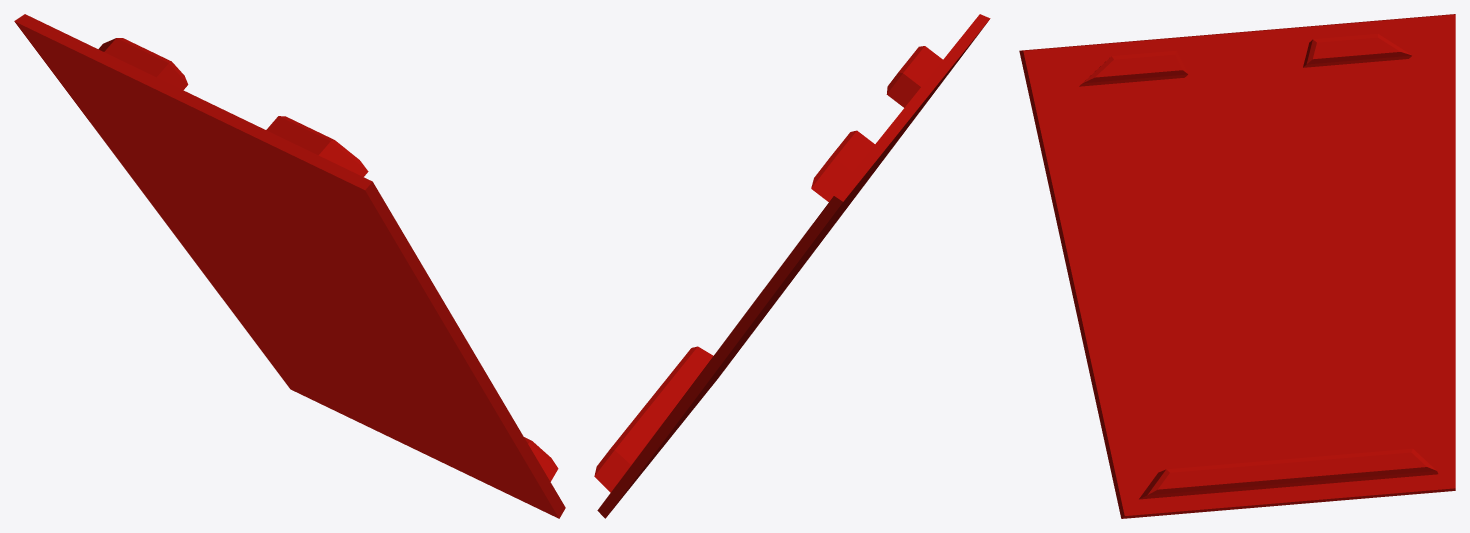
File: Baluminaria-Seg02.fbx
The picture shows the model from 3 angles, left to right: view 1: azimuth 30°, elevation 25°; view 2: azimuth 150°, elevation 25°; view 3: azimuth 270°, elevation 25°; orthographic projection. The views are drawn at different scales.
Parts seen in each view (by area): view 1: Seg02; view 2: Seg02; view 3: Seg02.
Boxes of the visible parts, box(x1,y1,x2,y2) form: Seg02: box(14, 14, 565, 518); Seg02: box(594, 14, 990, 518); Seg02: box(1019, 14, 1455, 518).
Size of the model in its own units: 2462 by 2878 by 3093.
